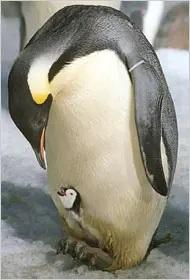emporer: (5, 2, 184, 274)
